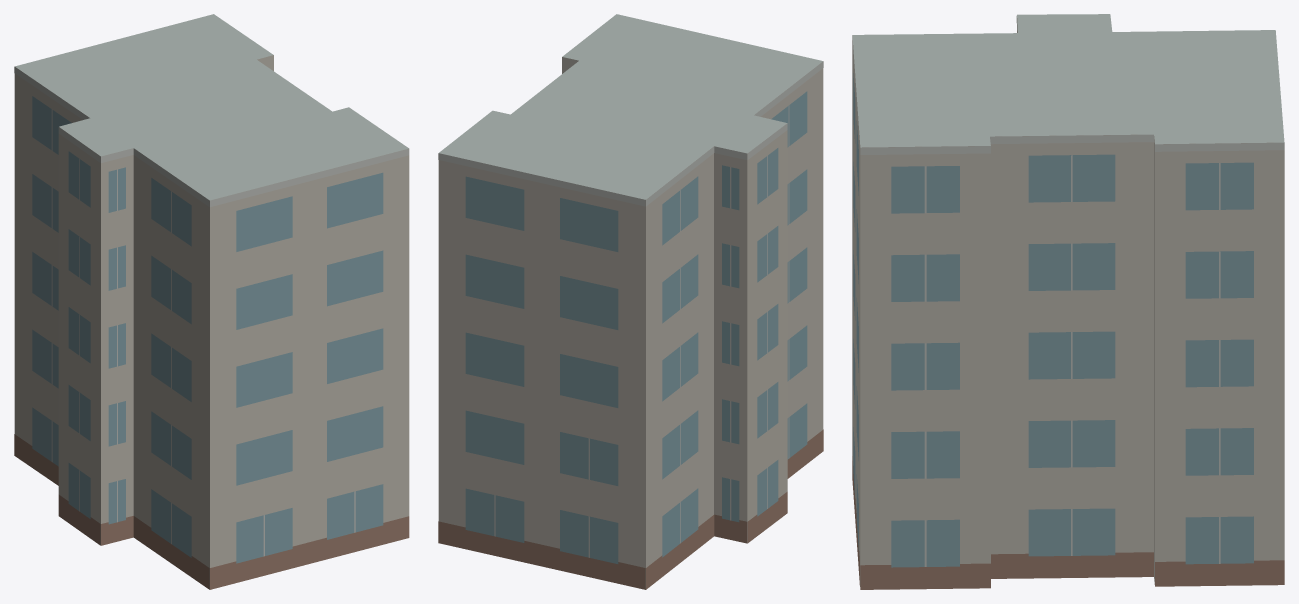
The model's file is survey-upis-32554165.glb.
3 renders of one model, left to right at view 1: azimuth 30°, elevation 25°; view 2: azimuth 150°, elevation 25°; view 3: azimuth 270°, elevation 25°, orthographic. The views are drawn at different scales.
Parts seen in each view (by area): view 1: survey-upis-32554165.tmp; view 2: survey-upis-32554165.tmp; view 3: survey-upis-32554165.tmp.
Part boxes in pixels (<box>): survey-upis-32554165.tmp: <box>14,14,409,589</box>; survey-upis-32554165.tmp: <box>438,14,823,589</box>; survey-upis-32554165.tmp: <box>852,14,1284,589</box>.
Bounding box in the file's own units: 9.1 × 14.05 × 12.45.
